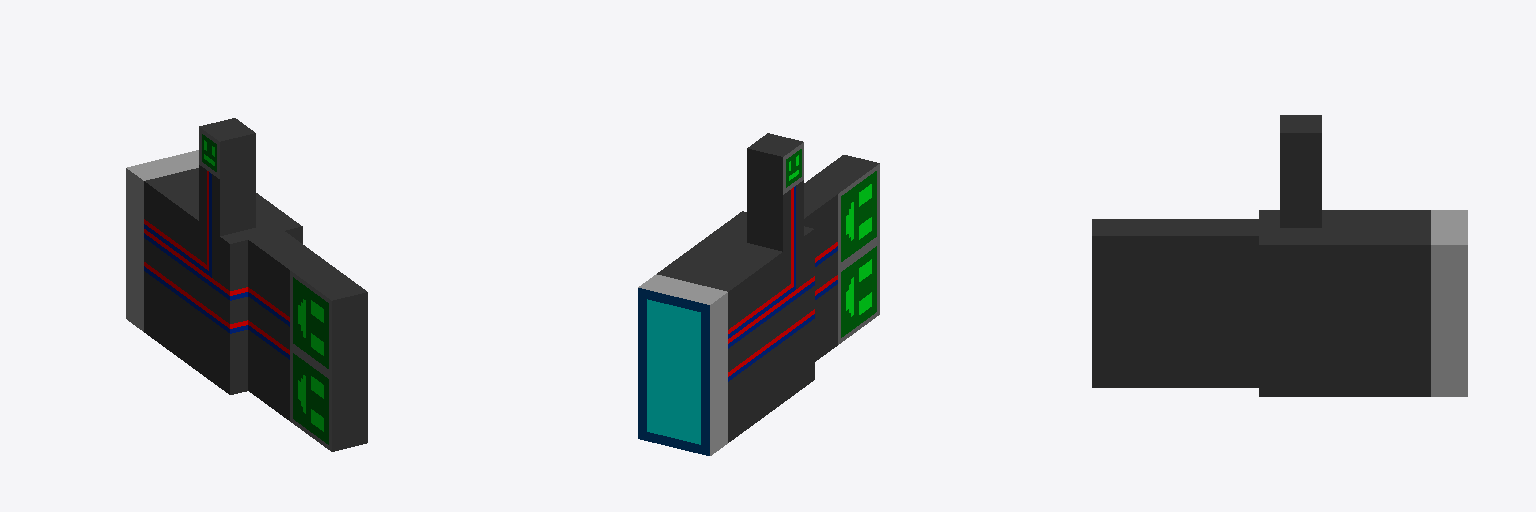
3 renders of one model, left to right at view 1: azimuth 30°, elevation 25°; view 2: azimuth 150°, elevation 25°; view 3: azimuth 270°, elevation 25°, orthographic.
Parts seen in each view (by area): view 1: handbod, f1tip, f2tip, f1, thumb, f2, thumbtip; view 2: handbod, f1tip, thumb, f2tip, thumbtip, f1, f2; view 3: handbod, f1tip, f1, f2tip, f2, thumb, thumbtip.
Boxes of the visible parts, x1=… form: handbod: x1=126, y1=150, x2=302, y2=394; f1tip: x1=290, y1=262, x2=367, y2=375; f2tip: x1=290, y1=346, x2=367, y2=451; f1: x1=248, y1=231, x2=325, y2=344; thumb: x1=199, y1=165, x2=255, y2=235; f2: x1=248, y1=315, x2=289, y2=420; thumbtip: x1=199, y1=118, x2=255, y2=179; handbod: x1=638, y1=211, x2=814, y2=455; f1tip: x1=804, y1=155, x2=879, y2=268; thumb: x1=747, y1=180, x2=803, y2=251; f2tip: x1=838, y1=239, x2=879, y2=344; thumbtip: x1=747, y1=133, x2=803, y2=194; f1: x1=804, y1=186, x2=837, y2=285; f2: x1=815, y1=270, x2=837, y2=361; handbod: x1=1259, y1=210, x2=1467, y2=396; f1tip: x1=1092, y1=219, x2=1175, y2=311; f1: x1=1176, y1=219, x2=1258, y2=311; f2tip: x1=1092, y1=312, x2=1175, y2=387; f2: x1=1176, y1=312, x2=1258, y2=387; thumb: x1=1280, y1=171, x2=1321, y2=227; thumbtip: x1=1280, y1=115, x2=1321, y2=170.
Bounding box in the file's own units: 0.25 × 0.8125 × 1.12.
Materials: 1 (1 with a texture image).